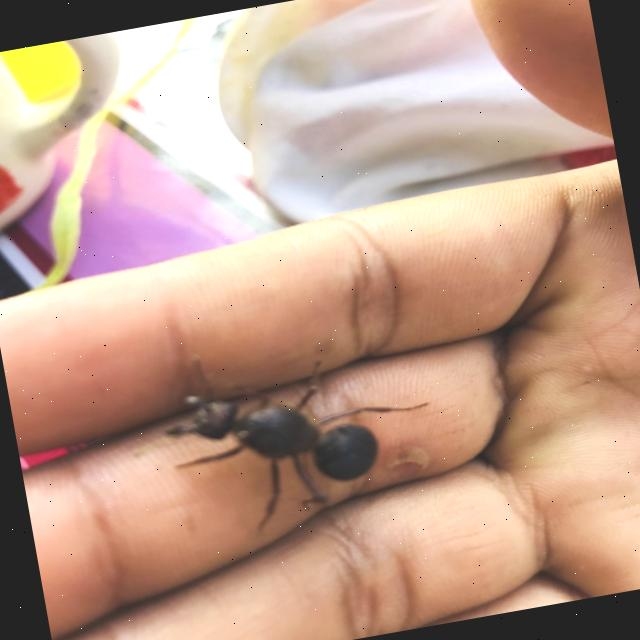Alive-Female-Dealate: (140, 326, 452, 540)
